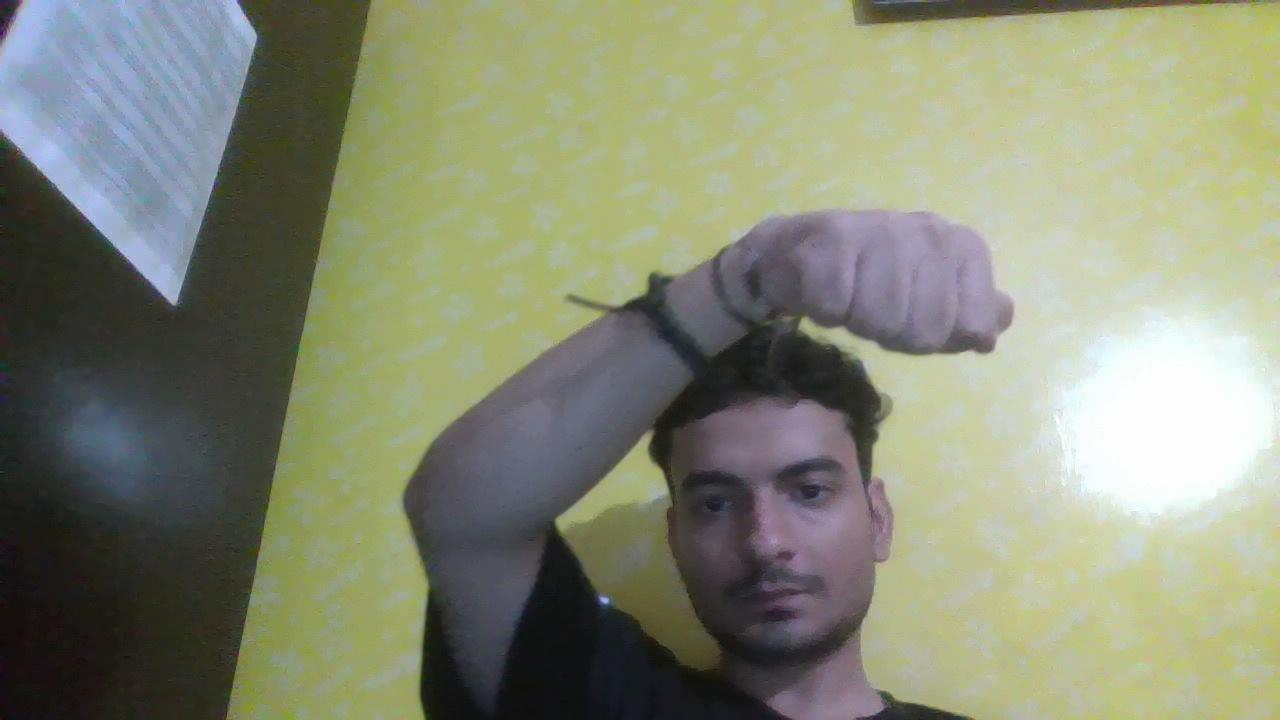Yes: (729, 157, 1046, 376)
